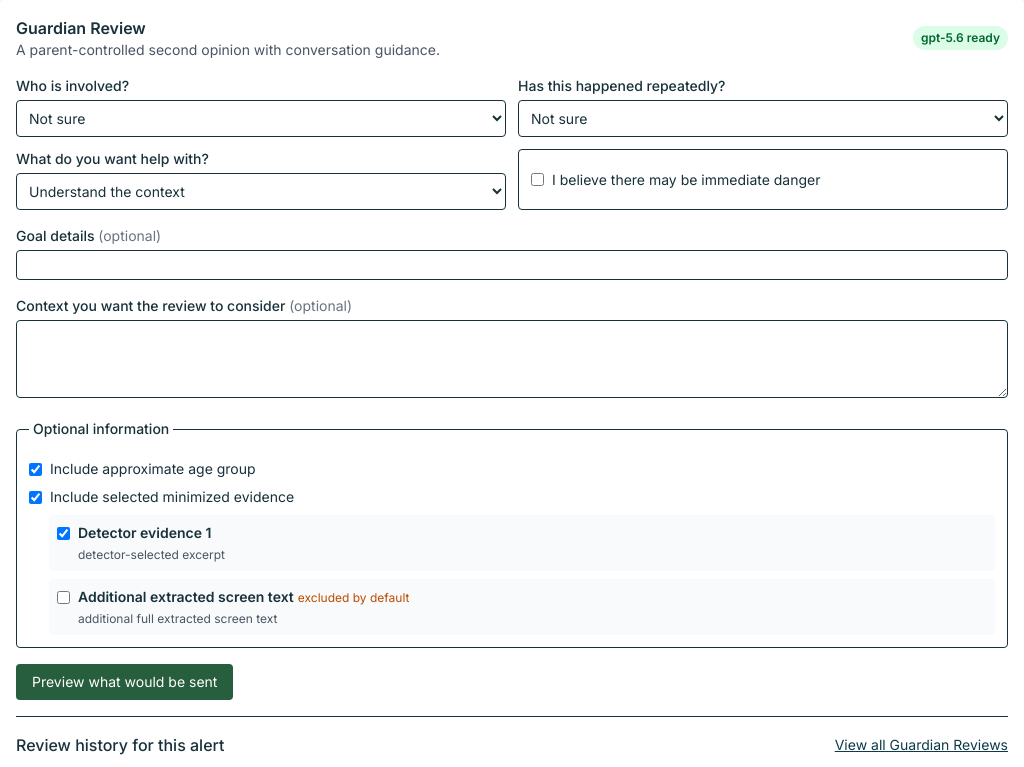
Guardian Review privacy flow › requires unchecked explicit consent and cancellation sends nothing
The image size is (1024, 767).
Expected: the text "gpt-5.6 ready" is shown, [913,26,1008,50]
Click the button "Preview what would be sent": (125, 682) [16,664,233,700]
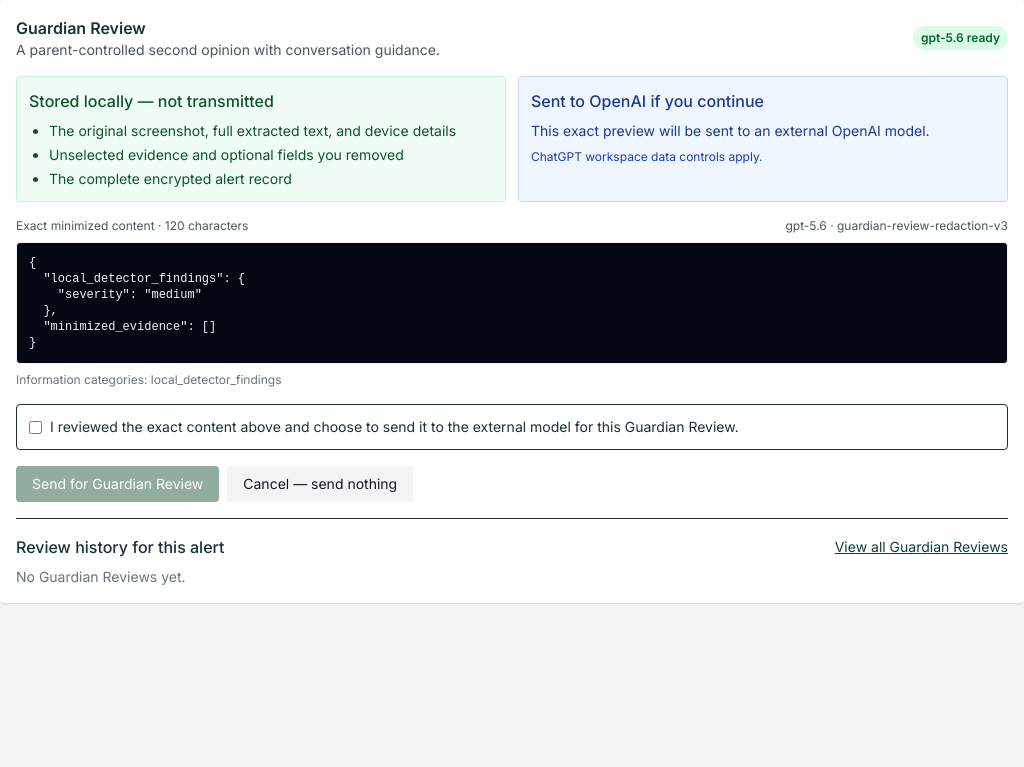
Result: the button "Send for Guardian Review" is disabled at [16,466,219,502]
Click the button "Cancel — send nothing": (320, 484) [227,466,413,502]
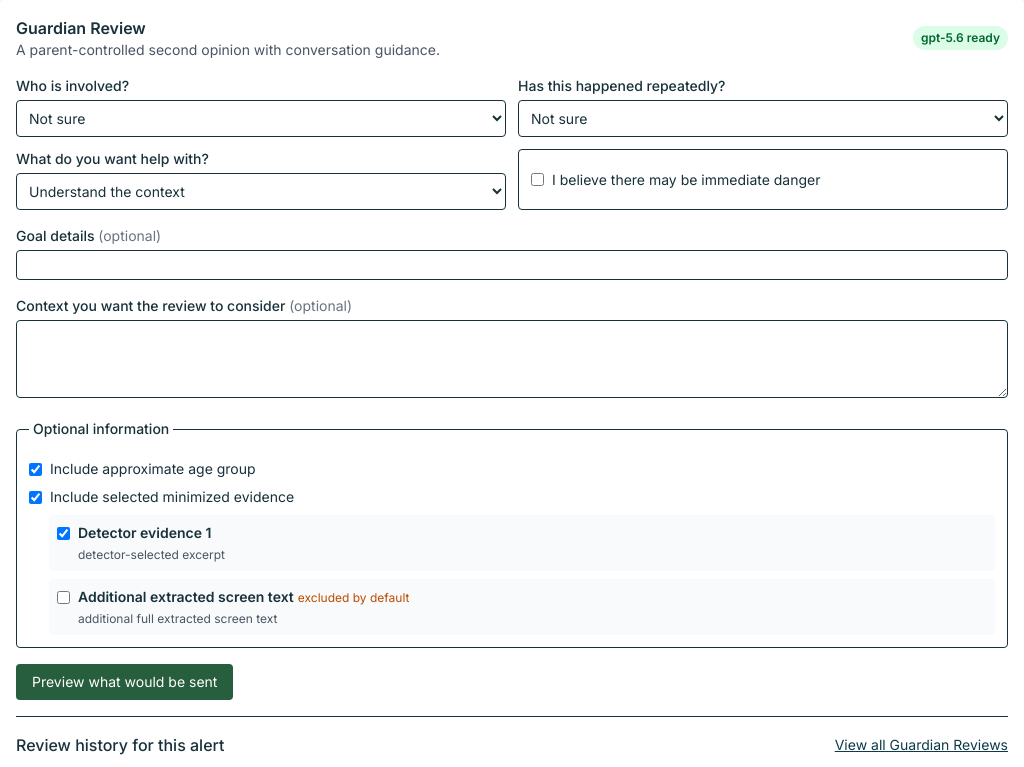
Result: the button "Preview what would be sent" is shown at [16,664,233,700]
